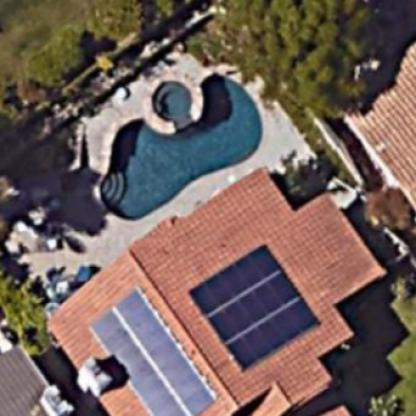pool: (96, 65, 265, 224)
